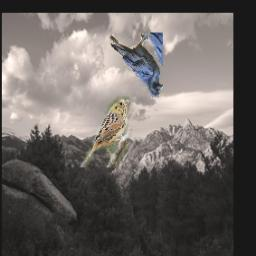Crow: (109, 32, 164, 97)
Sparrow: (80, 96, 131, 167)
